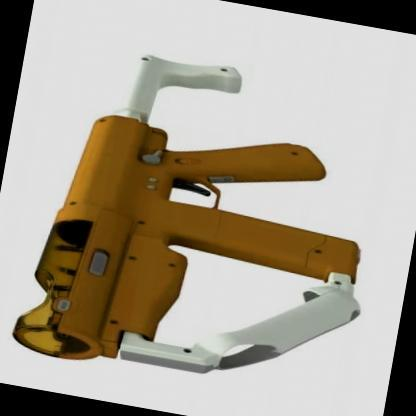rifle: (0, 18, 381, 412)
